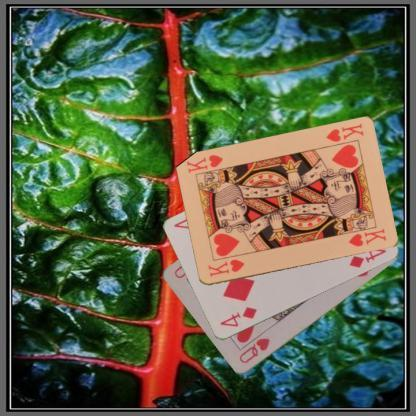4d: (218, 304, 258, 329)
Kh: (323, 121, 365, 144), (205, 256, 246, 278)
Qh: (236, 336, 272, 365)
